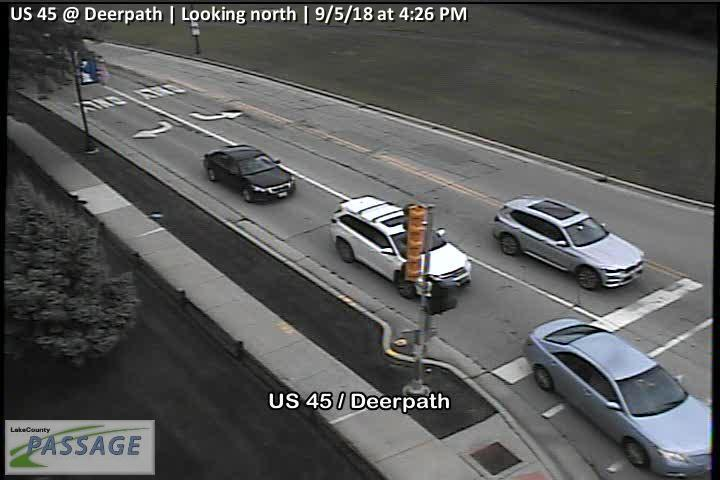SUV: (490, 193, 647, 292), (330, 194, 474, 301)
Sedan: (525, 316, 720, 480), (202, 144, 298, 205)
